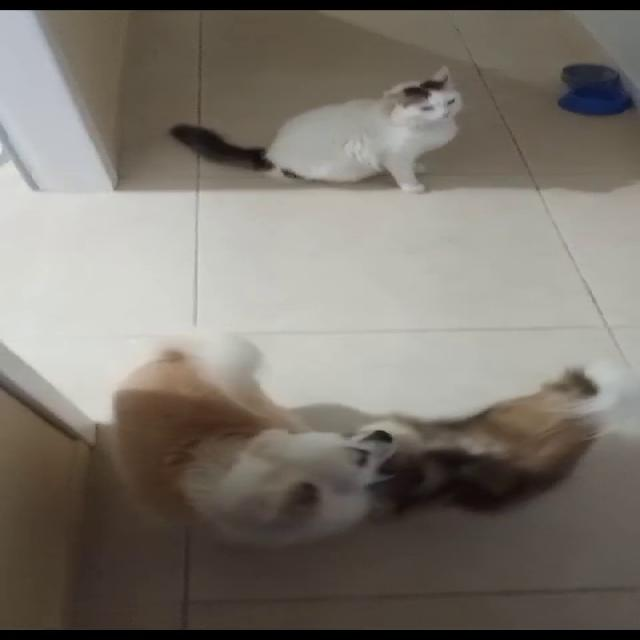Pedrita: (310, 359, 639, 523)
Simba: (188, 64, 554, 200)
Theo: (109, 326, 436, 576)
